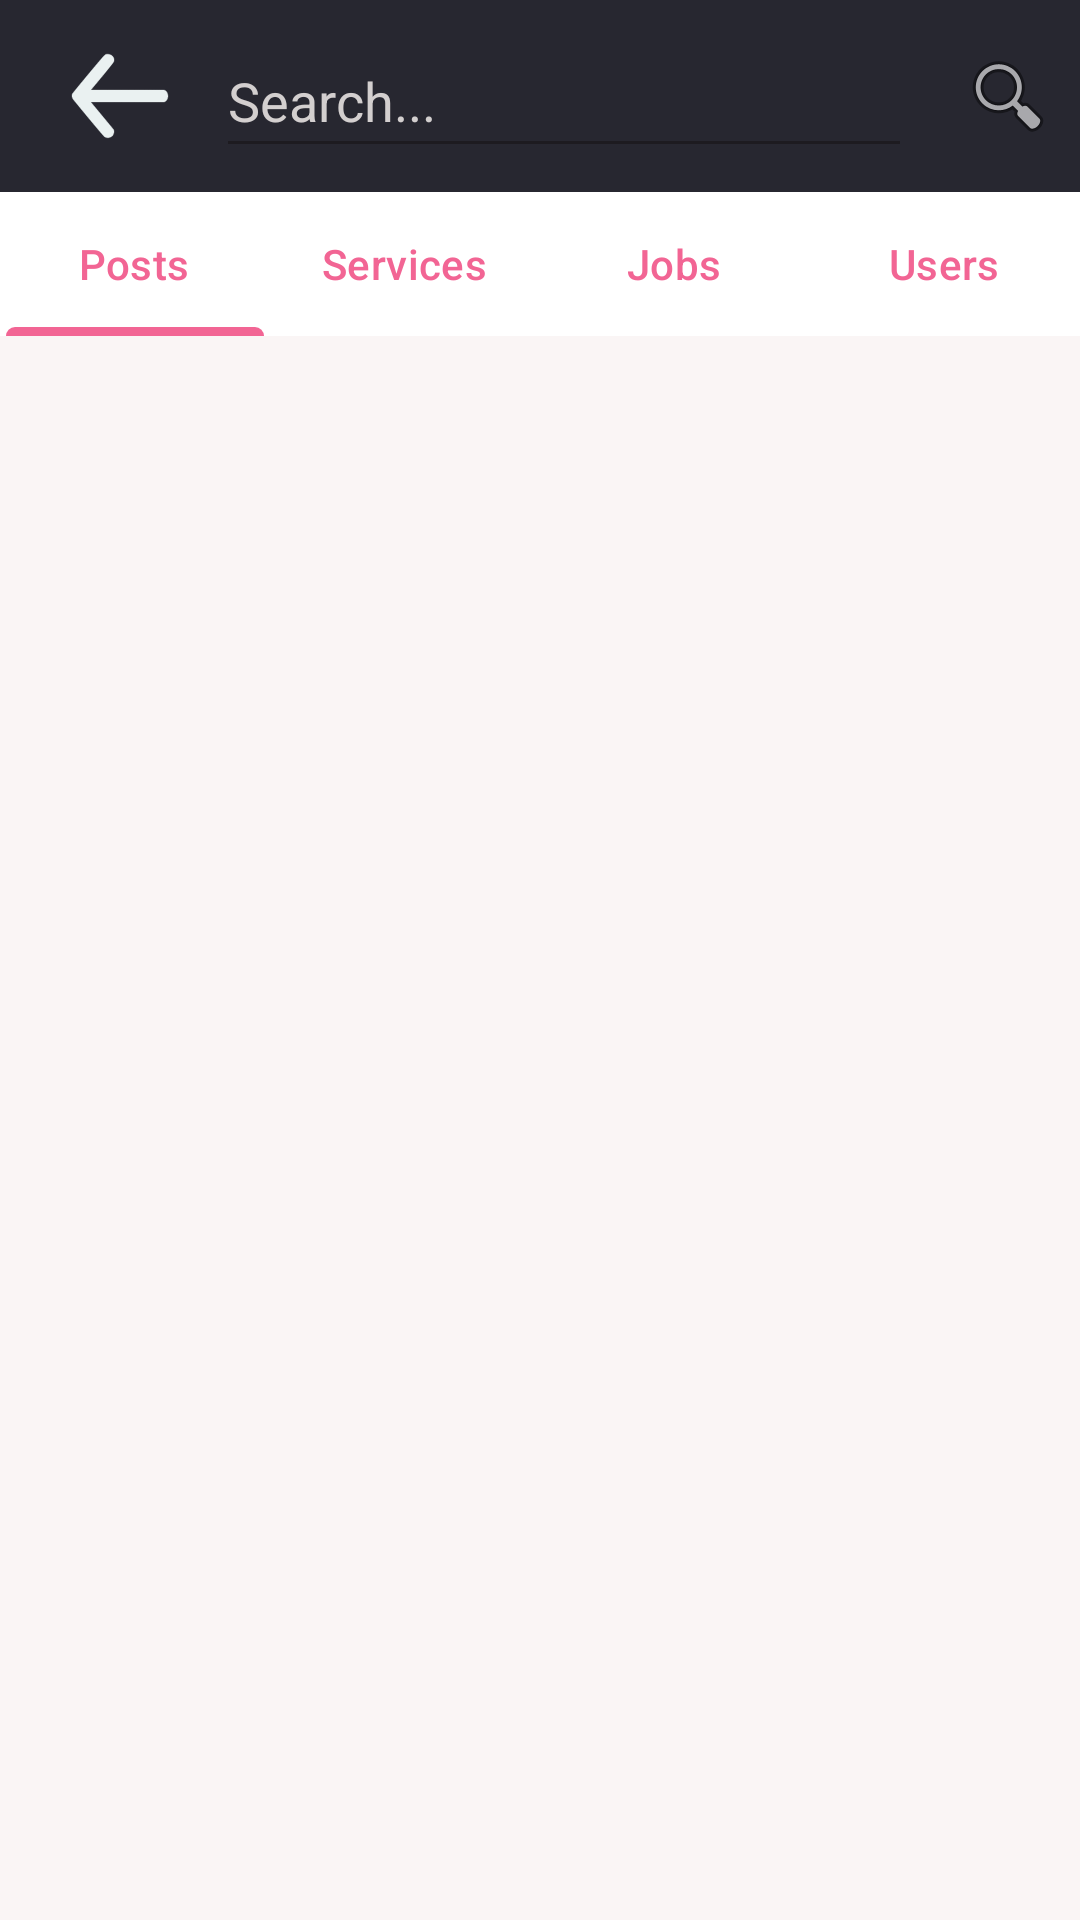

Icon click points for this 1080×1920 phone screenshot, format (x=x, y=y):
arrow left: (x=119, y=96)
